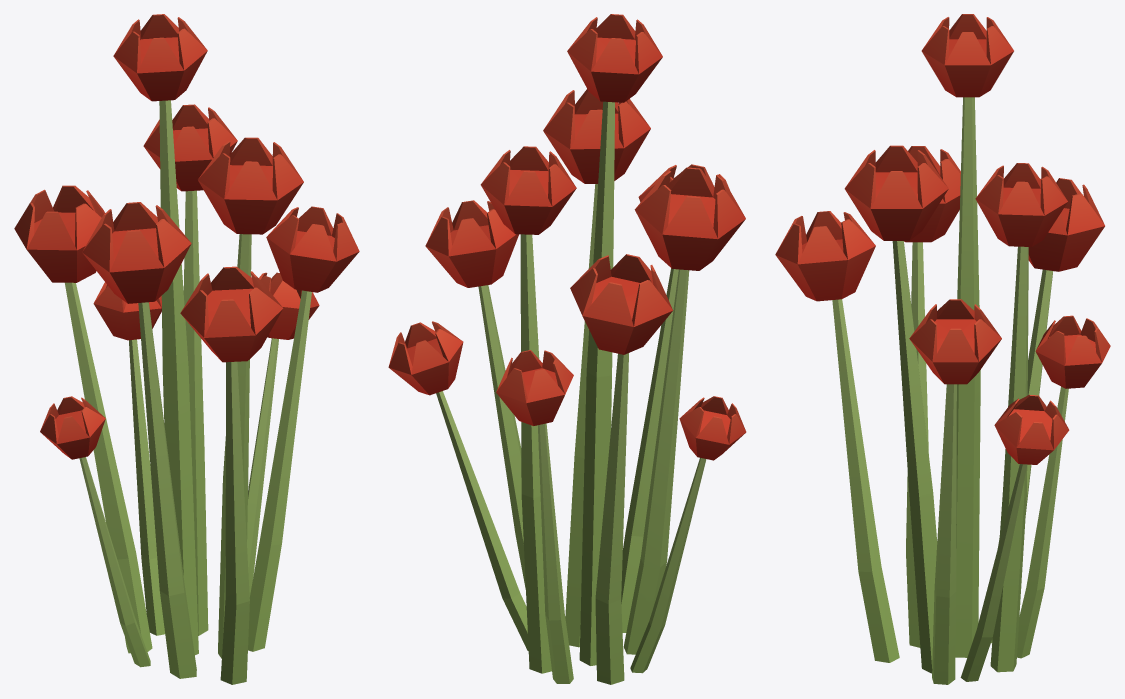
The model's file is flowers-2.glb.
The picture shows the model from 3 angles, left to right: view 1: azimuth 30°, elevation 25°; view 2: azimuth 150°, elevation 25°; view 3: azimuth 270°, elevation 25°; orthographic projection. The views are drawn at different scales.
Parts seen in each view (by area): view 1: flowers 2; view 2: flowers 2; view 3: flowers 2.
Part boxes in pixels (x1,y1,x2,y2): flowers 2: (14,14,359,684); flowers 2: (388,14,746,684); flowers 2: (775,14,1110,684).
Size of the model in its own units: 0.7503 by 1.51 by 0.7405.
Materials: 1 (1 with a texture image).
